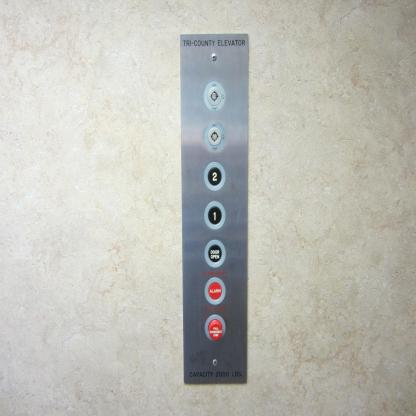1: (204, 201, 225, 230)
2: (204, 162, 226, 190)
bt_keyhole: (203, 122, 226, 151), (203, 81, 225, 111)
text_alarm bell: (204, 277, 226, 305)
text_emergency: (204, 314, 226, 342)
text_open door: (204, 240, 226, 268)
